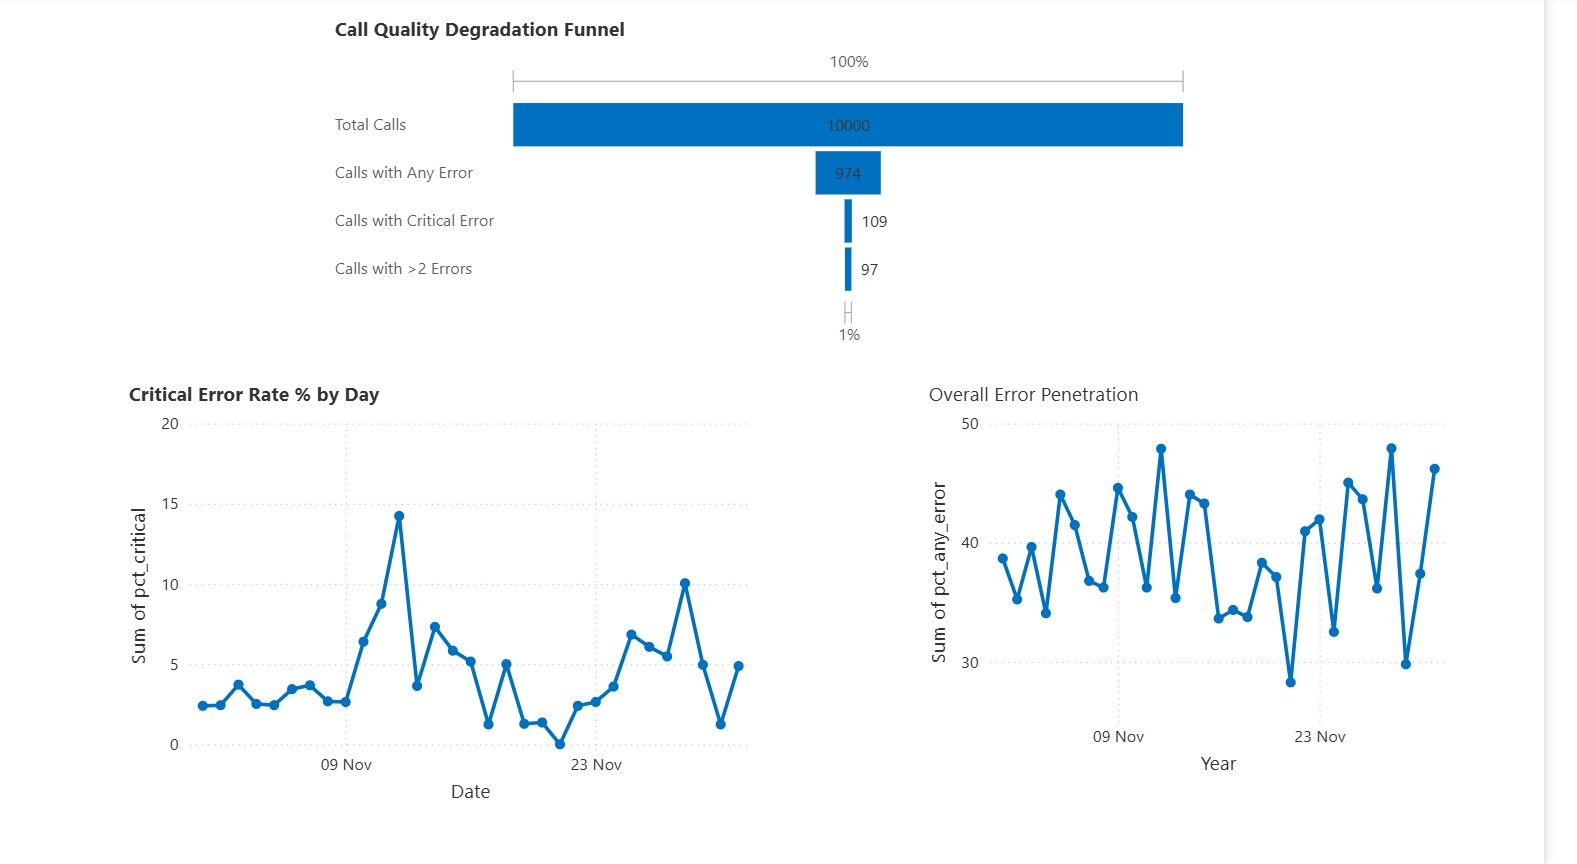

The dashboard page shown, as its layout file describes it:
{"tool":"powerbi","page":{"name":"Funnel Breakdown","canvas":[1280,720],"ordinal":2},"visuals":[{"type":"funnel","title":"Call Quality Degradation Funnel","fields":{"Category":["Error funnel by Day.Stage"],"Y":["Sum(Error funnel by Day.Volume)"]},"box":[274.3,14.6,716.8,280.1],"z":0},{"type":"lineChart","title":"Critical Error Rate % by Day","fields":{"Y":["Sum(Error funnel by Day.pct_critical)"],"Category":["calendar.Date"]},"box":[103.7,316.6,536.5,354.7],"z":1000},{"type":"lineChart","title":"Overall Error Penetration","fields":{"Y":["Sum(Error funnel by Day.pct_any_error)"],"Category":["calendar.Date.Variation.Date Hierarchy.Year","calendar.Date.Variation.Date Hierarchy.Quarter","calendar.Date.Variation.Date Hierarchy.Month","calendar.Date.Variation.Date Hierarchy.Day"]},"box":[765.2,316.6,450.4,331.6],"z":2000}]}

Visuals, with their boxes in screenshot pixels (x1, y1, x2, y2), scaled from the page's 1280x720 canvas onto the 1577x864 screenshot:
"Call Quality Degradation Funnel" funnel: region(338, 18, 1221, 354)
"Critical Error Rate % by Day" lineChart: region(128, 380, 789, 806)
"Overall Error Penetration" lineChart: region(943, 380, 1498, 778)
